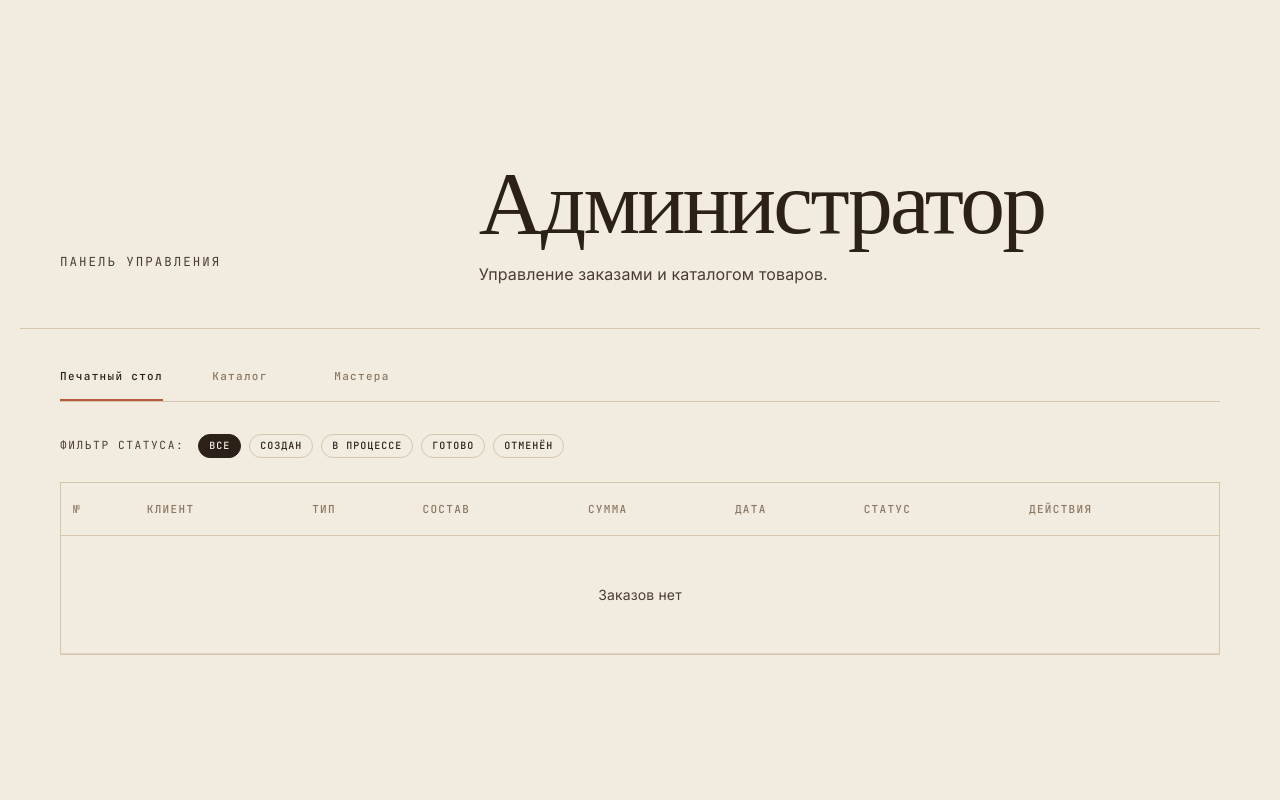
Test case: Admin: вкладка каталога › кнопка "Отмена" в диалоге закрывает его без удаления
What coordinates should you click on to do the following:
click the tab "Каталог"
I would click on:
 (240, 376)
Its box is [195,352,285,400].
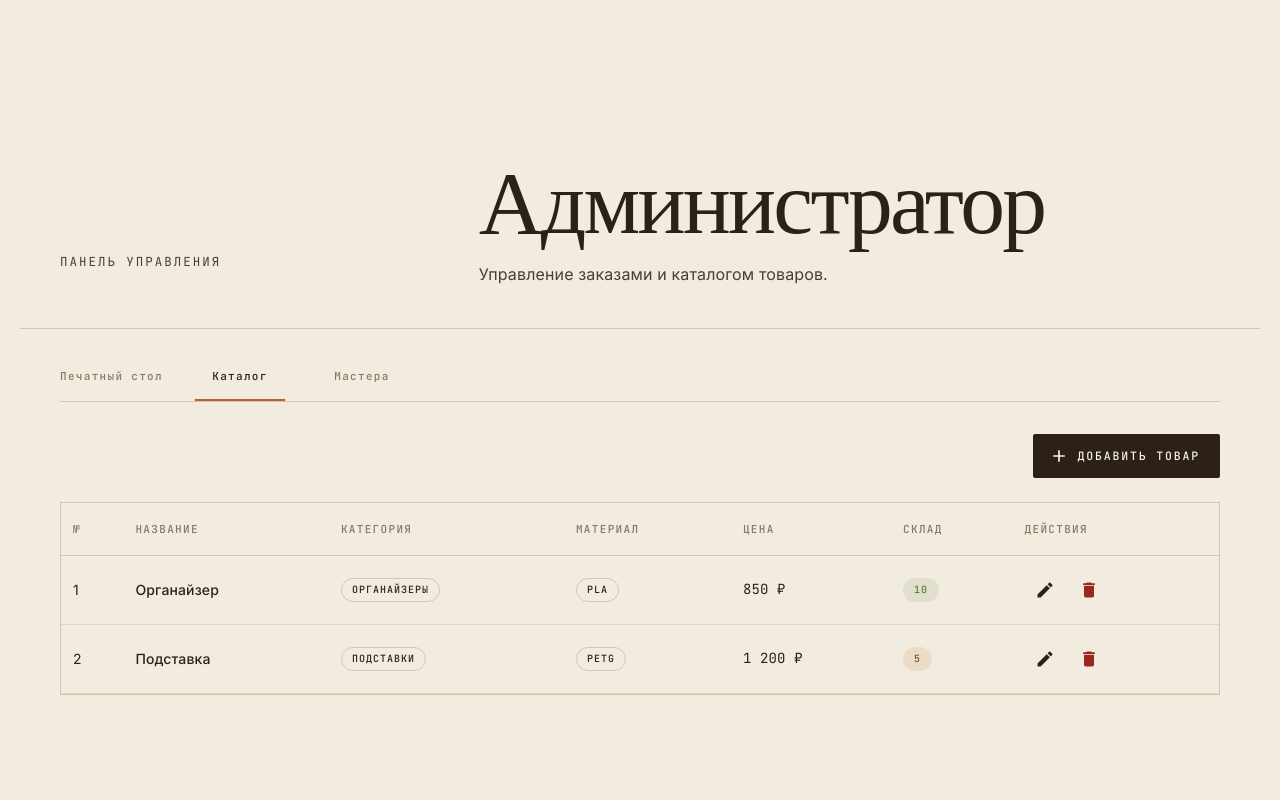
Expected: the text "Органайзер" is shown, [124,555,329,624]
What coordinates should you click on to do the following:
click the 3rd button
I would click on:
 (1089, 590)
Its box is [1069,570,1109,610].
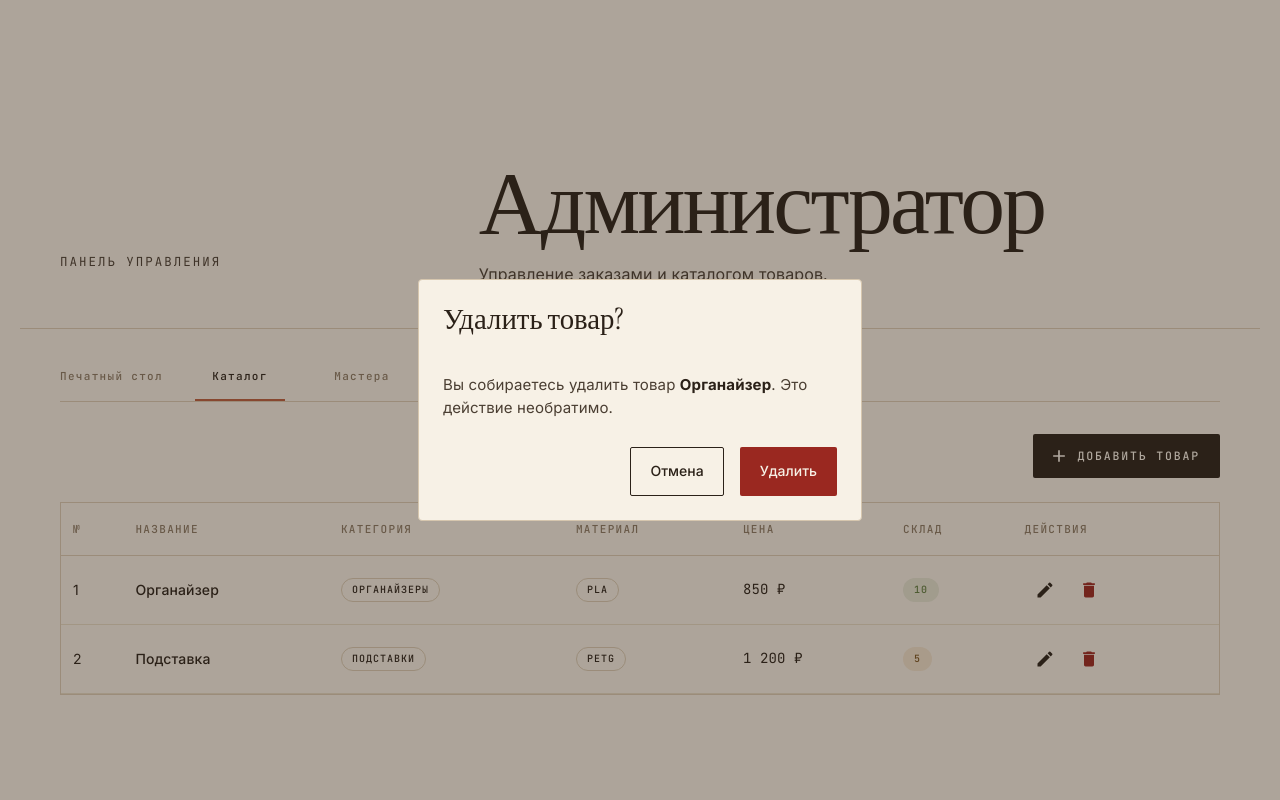
Expected: the heading "Удалить товар?" is shown, [443,300,624,338]
What coordinates should you click on to do the following:
click the button "Отмена"
I would click on:
 (677, 472)
Its box is [630,447,724,496].
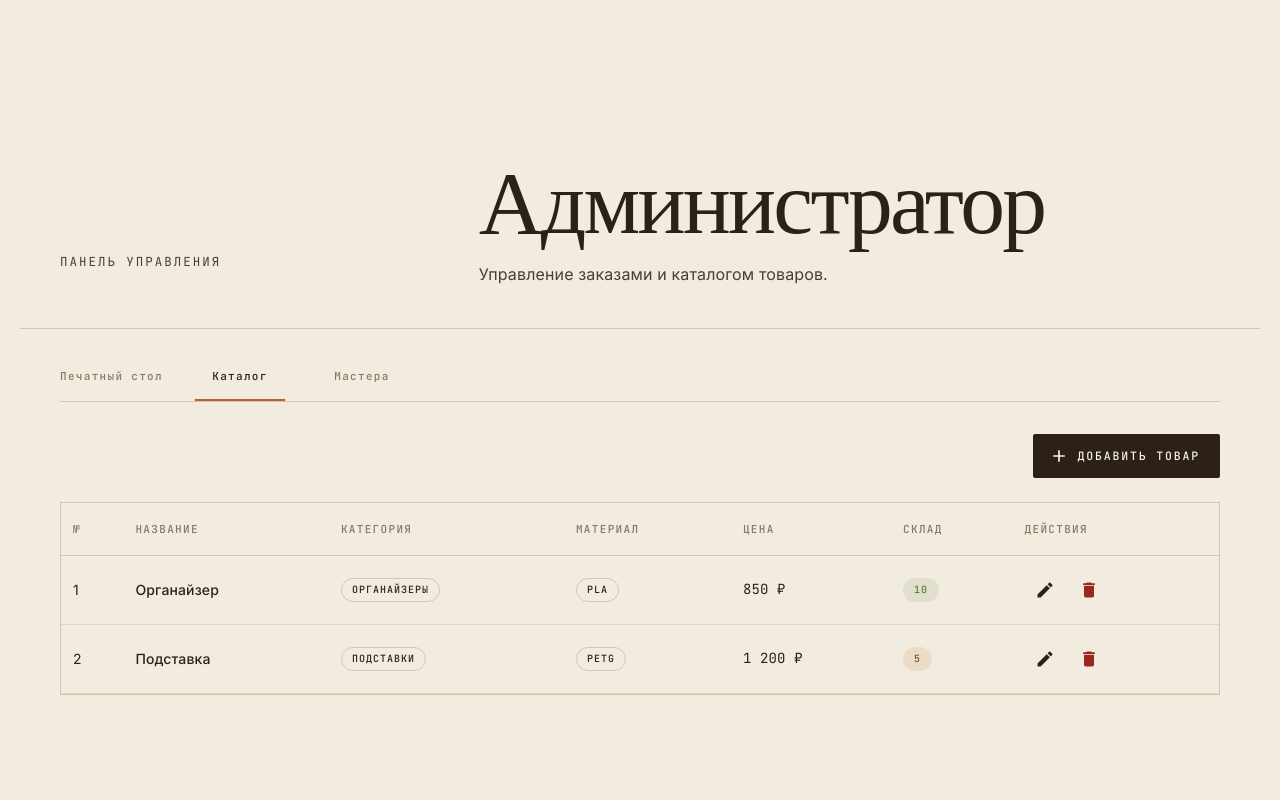
Expected: the heading "Удалить товар?" is gone
